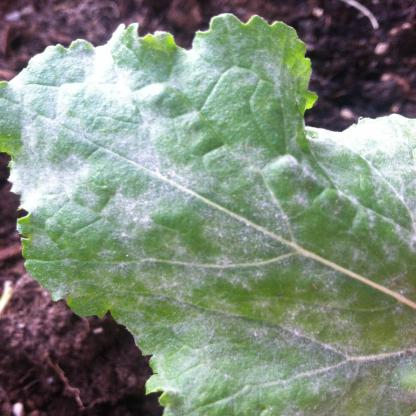squash powdery mildew leaf: (0, 13, 416, 416)
